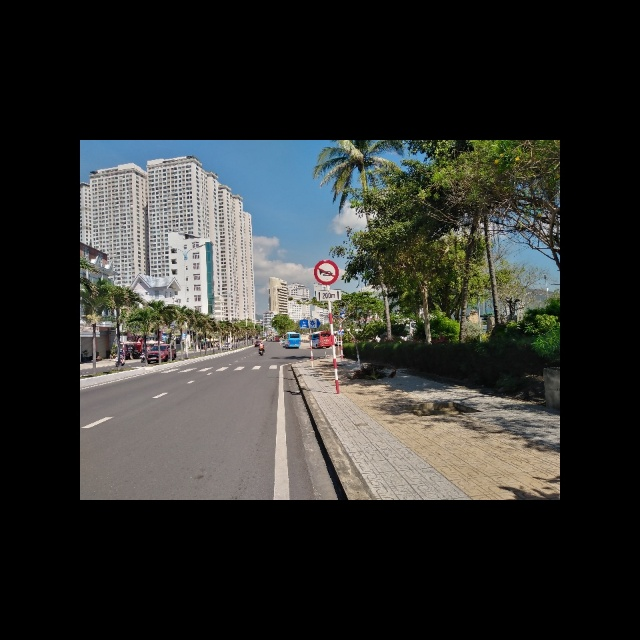Cấm bấm còi: (313, 259, 338, 285)
